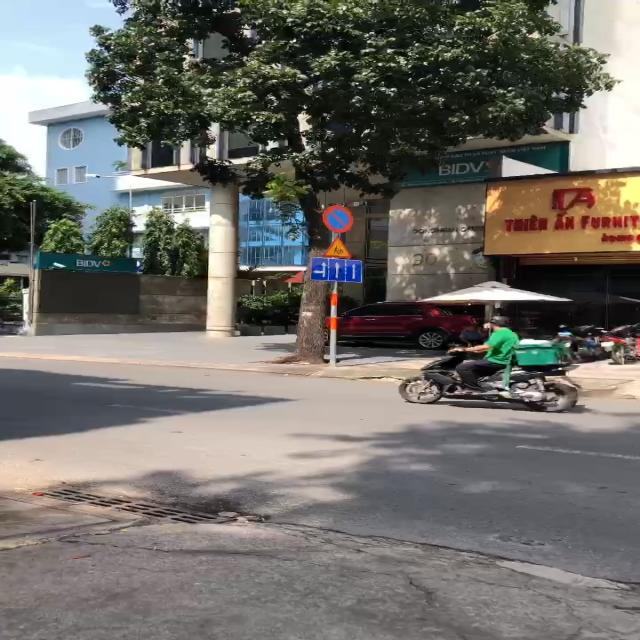Bien bao tre em: (322, 236, 354, 259)
